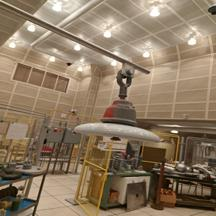insulator: (70, 96, 164, 148)
